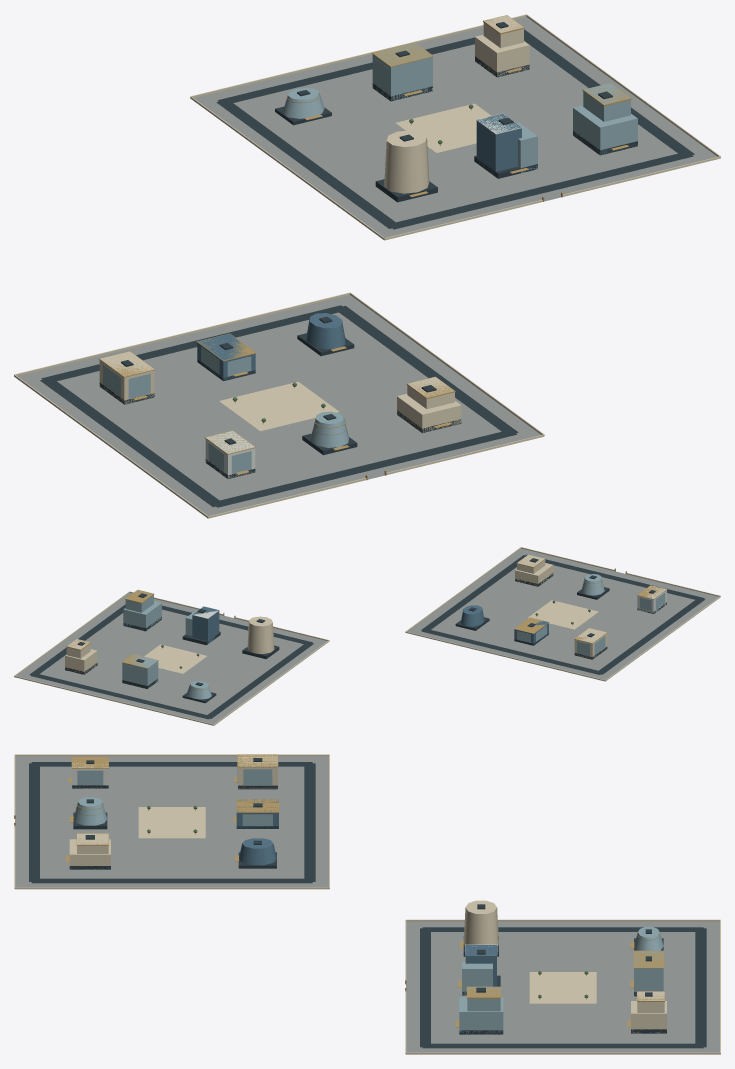
The model's file is GC-TILE-18-05.glb.
The picture shows the model from 3 angles, top to bottom: view 1: azimuth 30°, elevation 25°; view 2: azimuth 150°, elevation 25°; view 3: azimuth 270°, elevation 25°; orthographic projection. The views are drawn at different scales.
Visible parts, largest first — view 1: GC-TILE-18-05-paving, GC-TILE-18-05-ivory, GC-TILE-18-05-dark, GC-TILE-18-05-glass, GC-TILE-18-05-blue, GC-TILE-18-05-gold, GC-TILE-18-05-white; view 2: GC-TILE-18-05-paving, GC-TILE-18-05-ivory, GC-TILE-18-05-dark, GC-TILE-18-05-glass, GC-TILE-18-05-blue, GC-TILE-18-05-gold, GC-TILE-18-05-white; view 3: GC-TILE-18-05-paving, GC-TILE-18-05-ivory, GC-TILE-18-05-dark, GC-TILE-18-05-glass, GC-TILE-18-05-gold, GC-TILE-18-05-blue.
Part boxes in pixels (x1,y1,x2,y2): GC-TILE-18-05-paving: (17,17,717,515); GC-TILE-18-05-ivory: (14,14,720,518); GC-TILE-18-05-dark: (40,22,694,507); GC-TILE-18-05-glass: (103,43,637,473); GC-TILE-18-05-blue: (197,113,521,380); GC-TILE-18-05-gold: (99,15,631,479); GC-TILE-18-05-white: (205,113,522,478); GC-TILE-18-05-paving: (16,548,718,724); GC-TILE-18-05-ivory: (14,547,720,725); GC-TILE-18-05-dark: (29,554,705,719); GC-TILE-18-05-glass: (122,574,665,699); GC-TILE-18-05-blue: (192,605,548,643); GC-TILE-18-05-gold: (66,554,667,690); GC-TILE-18-05-white: (192,586,666,618); GC-TILE-18-05-paving: (15,756,719,1052); GC-TILE-18-05-ivory: (14,754,720,1054); GC-TILE-18-05-dark: (29,758,706,1048); GC-TILE-18-05-glass: (73,767,663,1034); GC-TILE-18-05-gold: (14,754,664,1027); GC-TILE-18-05-blue: (236,799,496,986).
Size of the model in its own units: 759 by 50.32 by 760.
